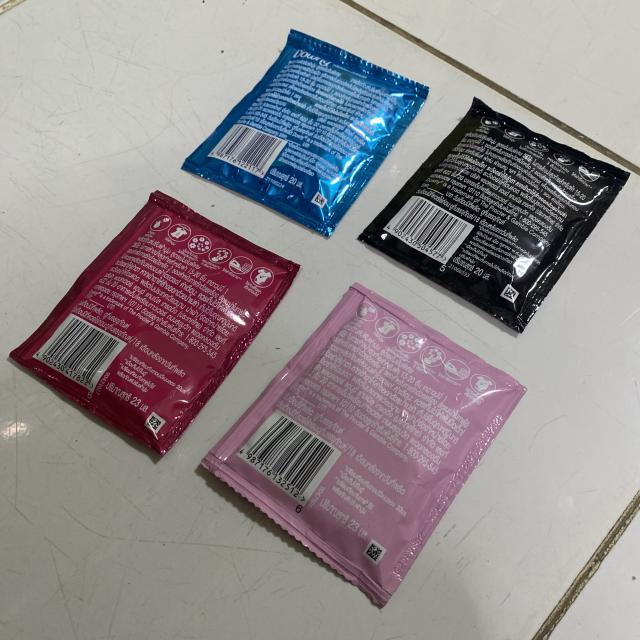plastik: (202, 284, 525, 606), (10, 191, 299, 454), (359, 98, 629, 332), (182, 30, 429, 236)
